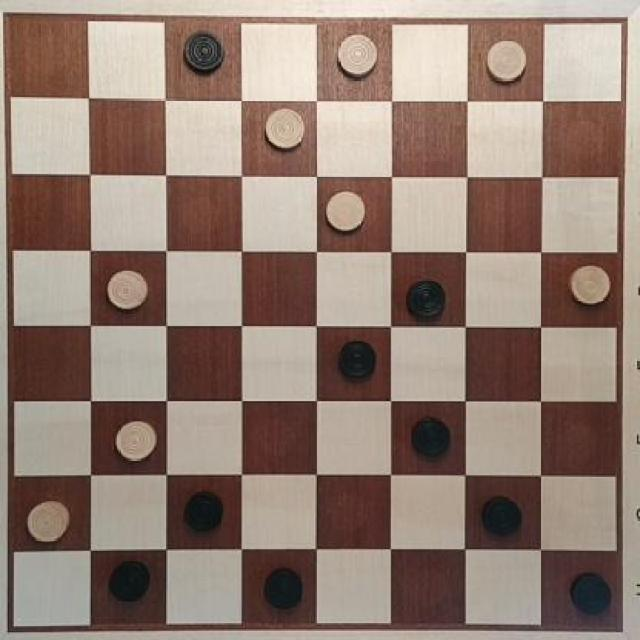BOARD: (3, 13, 619, 640)
black: (176, 23, 231, 82), (559, 567, 619, 619), (405, 410, 457, 469), (178, 489, 234, 538), (333, 335, 381, 388), (406, 275, 456, 324), (259, 563, 307, 614), (105, 554, 151, 605), (477, 491, 524, 536)
white: (107, 416, 165, 469), (560, 258, 618, 311), (21, 499, 74, 552), (321, 189, 376, 236), (337, 27, 382, 84), (481, 37, 531, 86), (260, 108, 307, 159), (104, 269, 151, 319)
